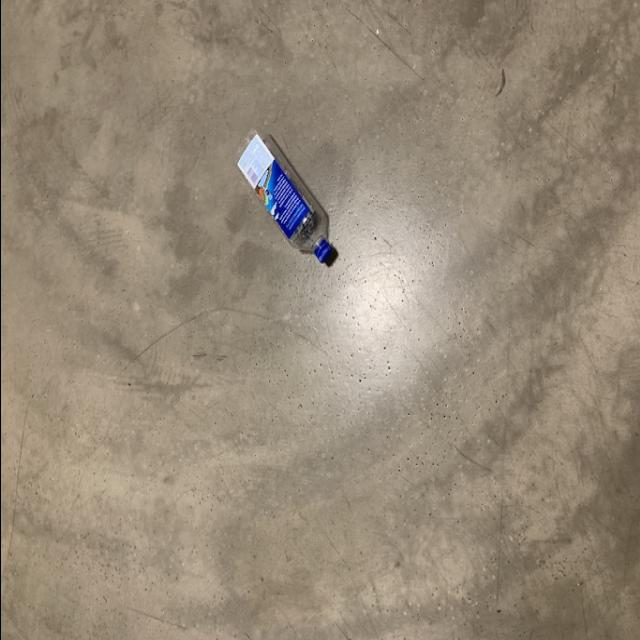PET: (232, 122, 332, 270)
